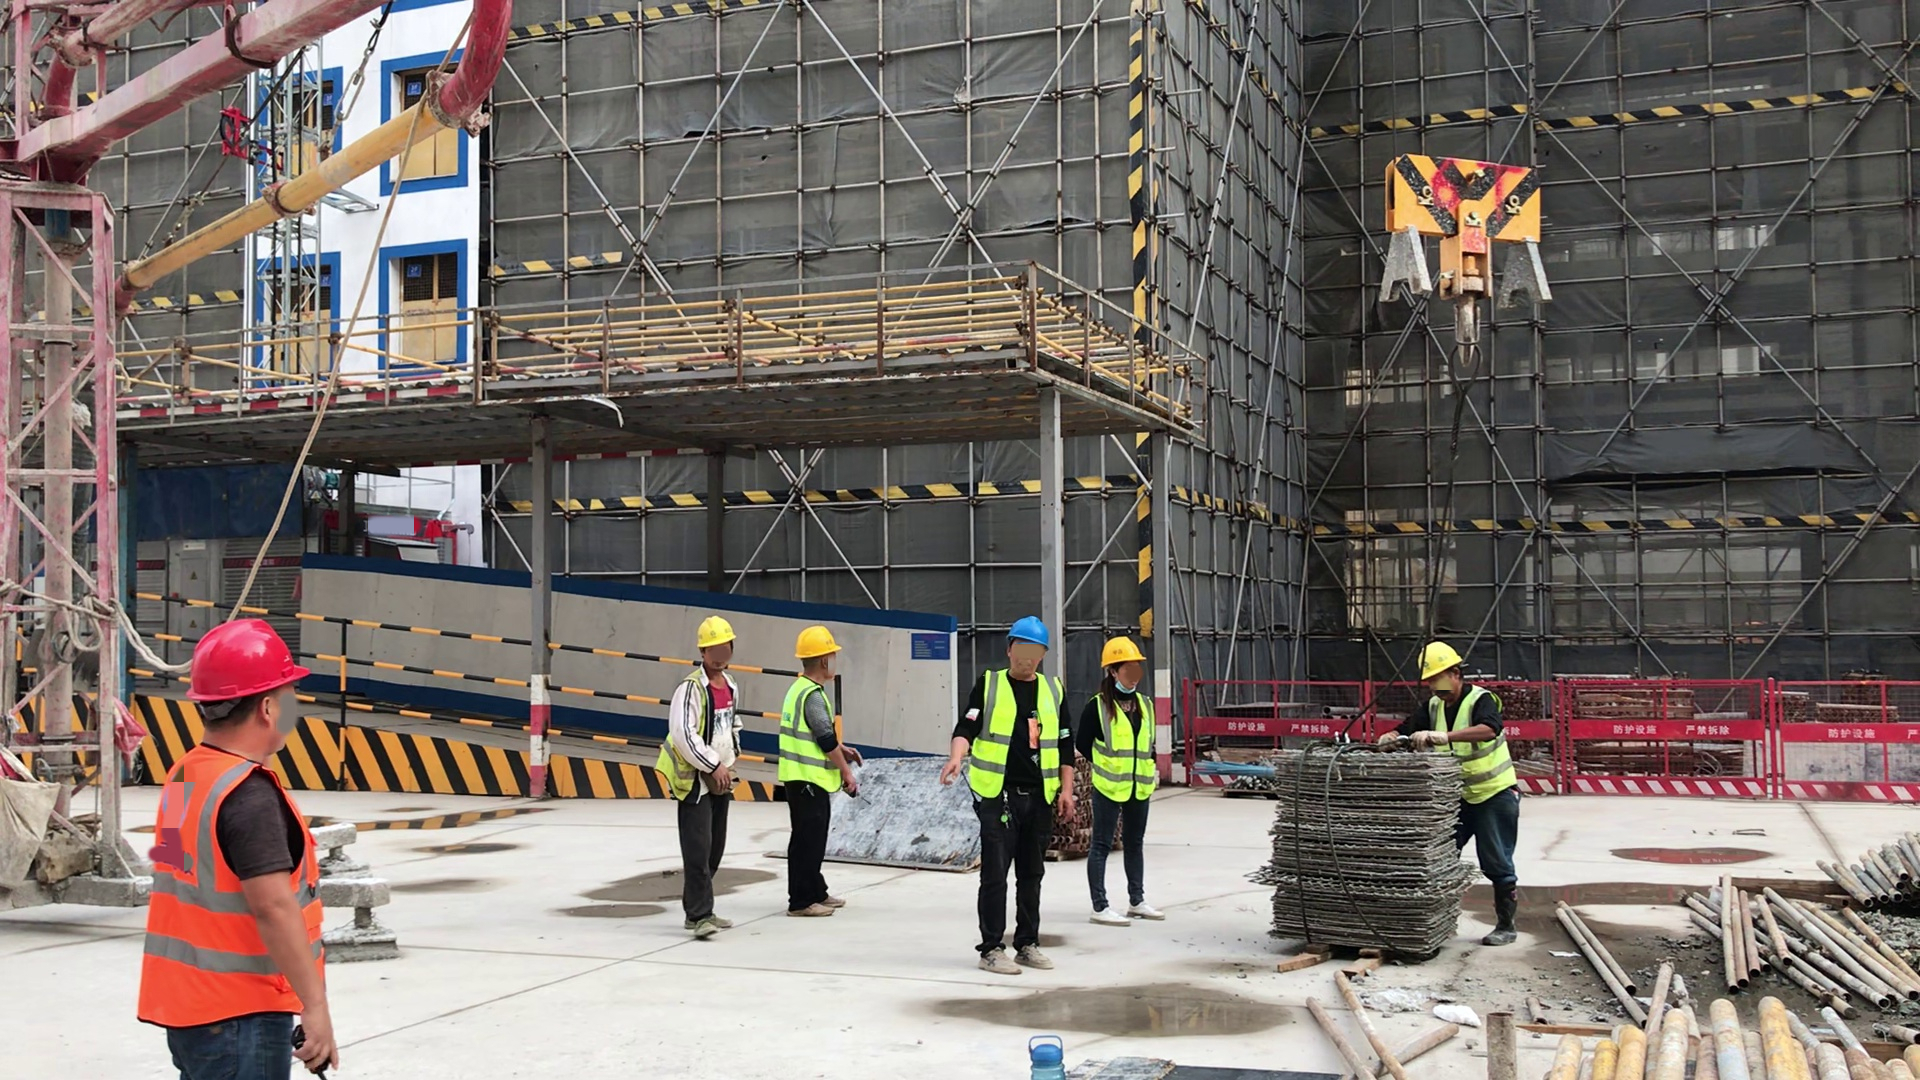board: (759, 751, 993, 874)
fence: (1519, 670, 1910, 808), (1181, 673, 1402, 760)
helmet: (180, 610, 314, 706), (1410, 638, 1465, 684), (787, 626, 845, 660), (691, 615, 741, 651), (1096, 633, 1148, 667), (1007, 612, 1050, 649)
hook: (1364, 137, 1558, 363)
person: (129, 595, 393, 1080), (936, 614, 1067, 974), (1399, 636, 1522, 947), (646, 611, 751, 938), (767, 617, 874, 926), (1076, 629, 1172, 930)
vest: (126, 740, 338, 1029), (646, 666, 745, 803), (968, 662, 1062, 798), (1416, 681, 1514, 803), (769, 677, 846, 799), (1083, 688, 1163, 804)
